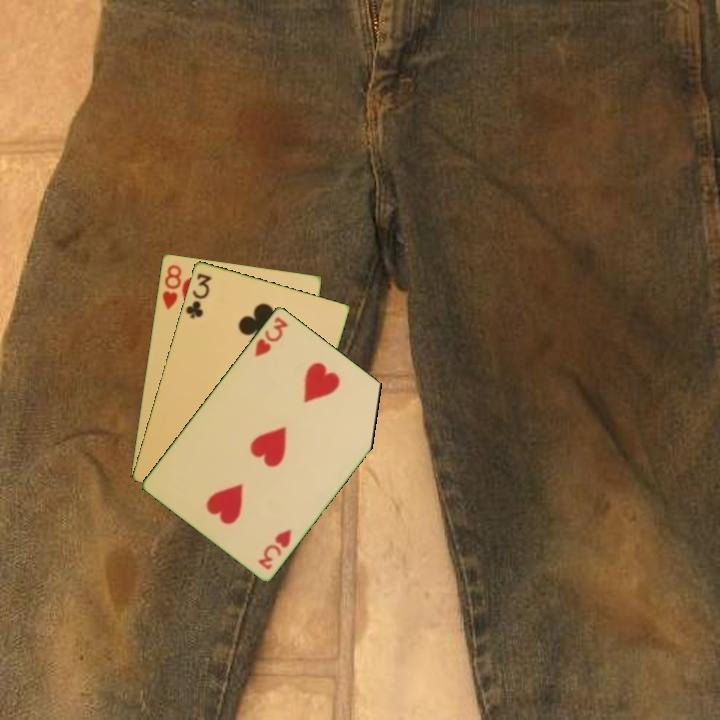3c: (182, 269, 214, 321)
3h: (251, 313, 291, 360), (254, 525, 294, 572)
8h: (158, 261, 184, 312)
